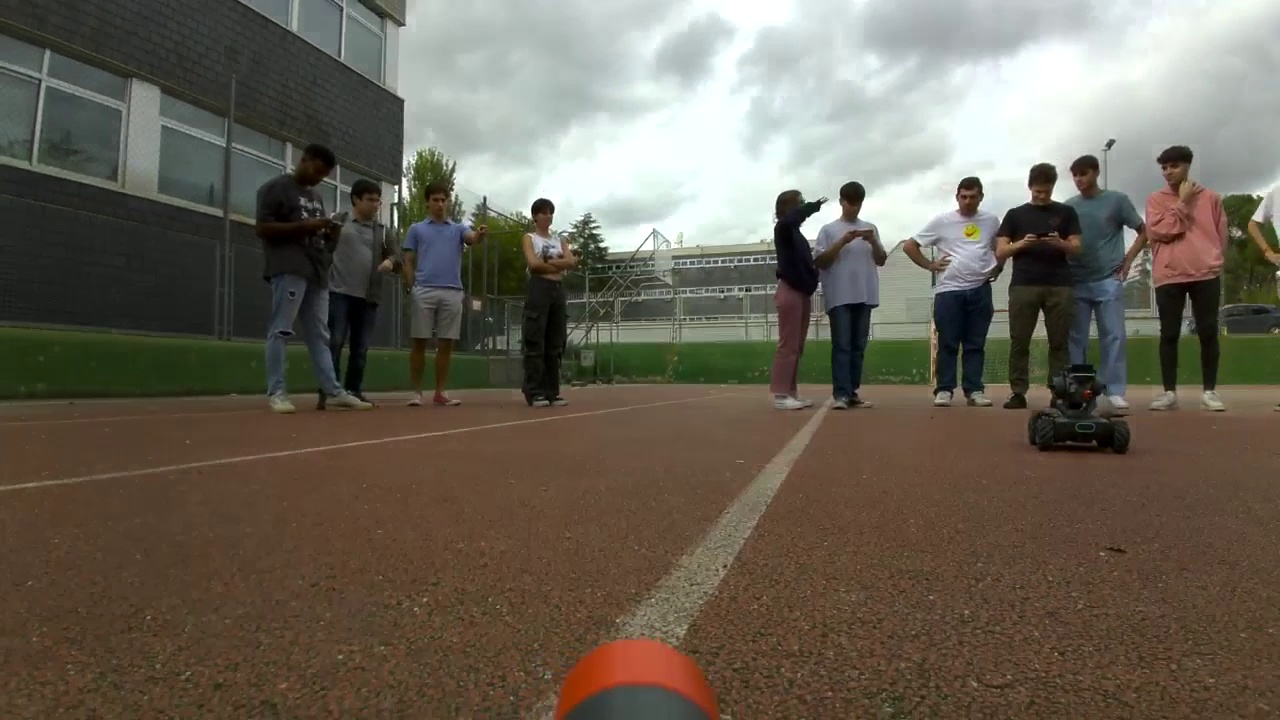robot: (1028, 366, 1130, 451)
